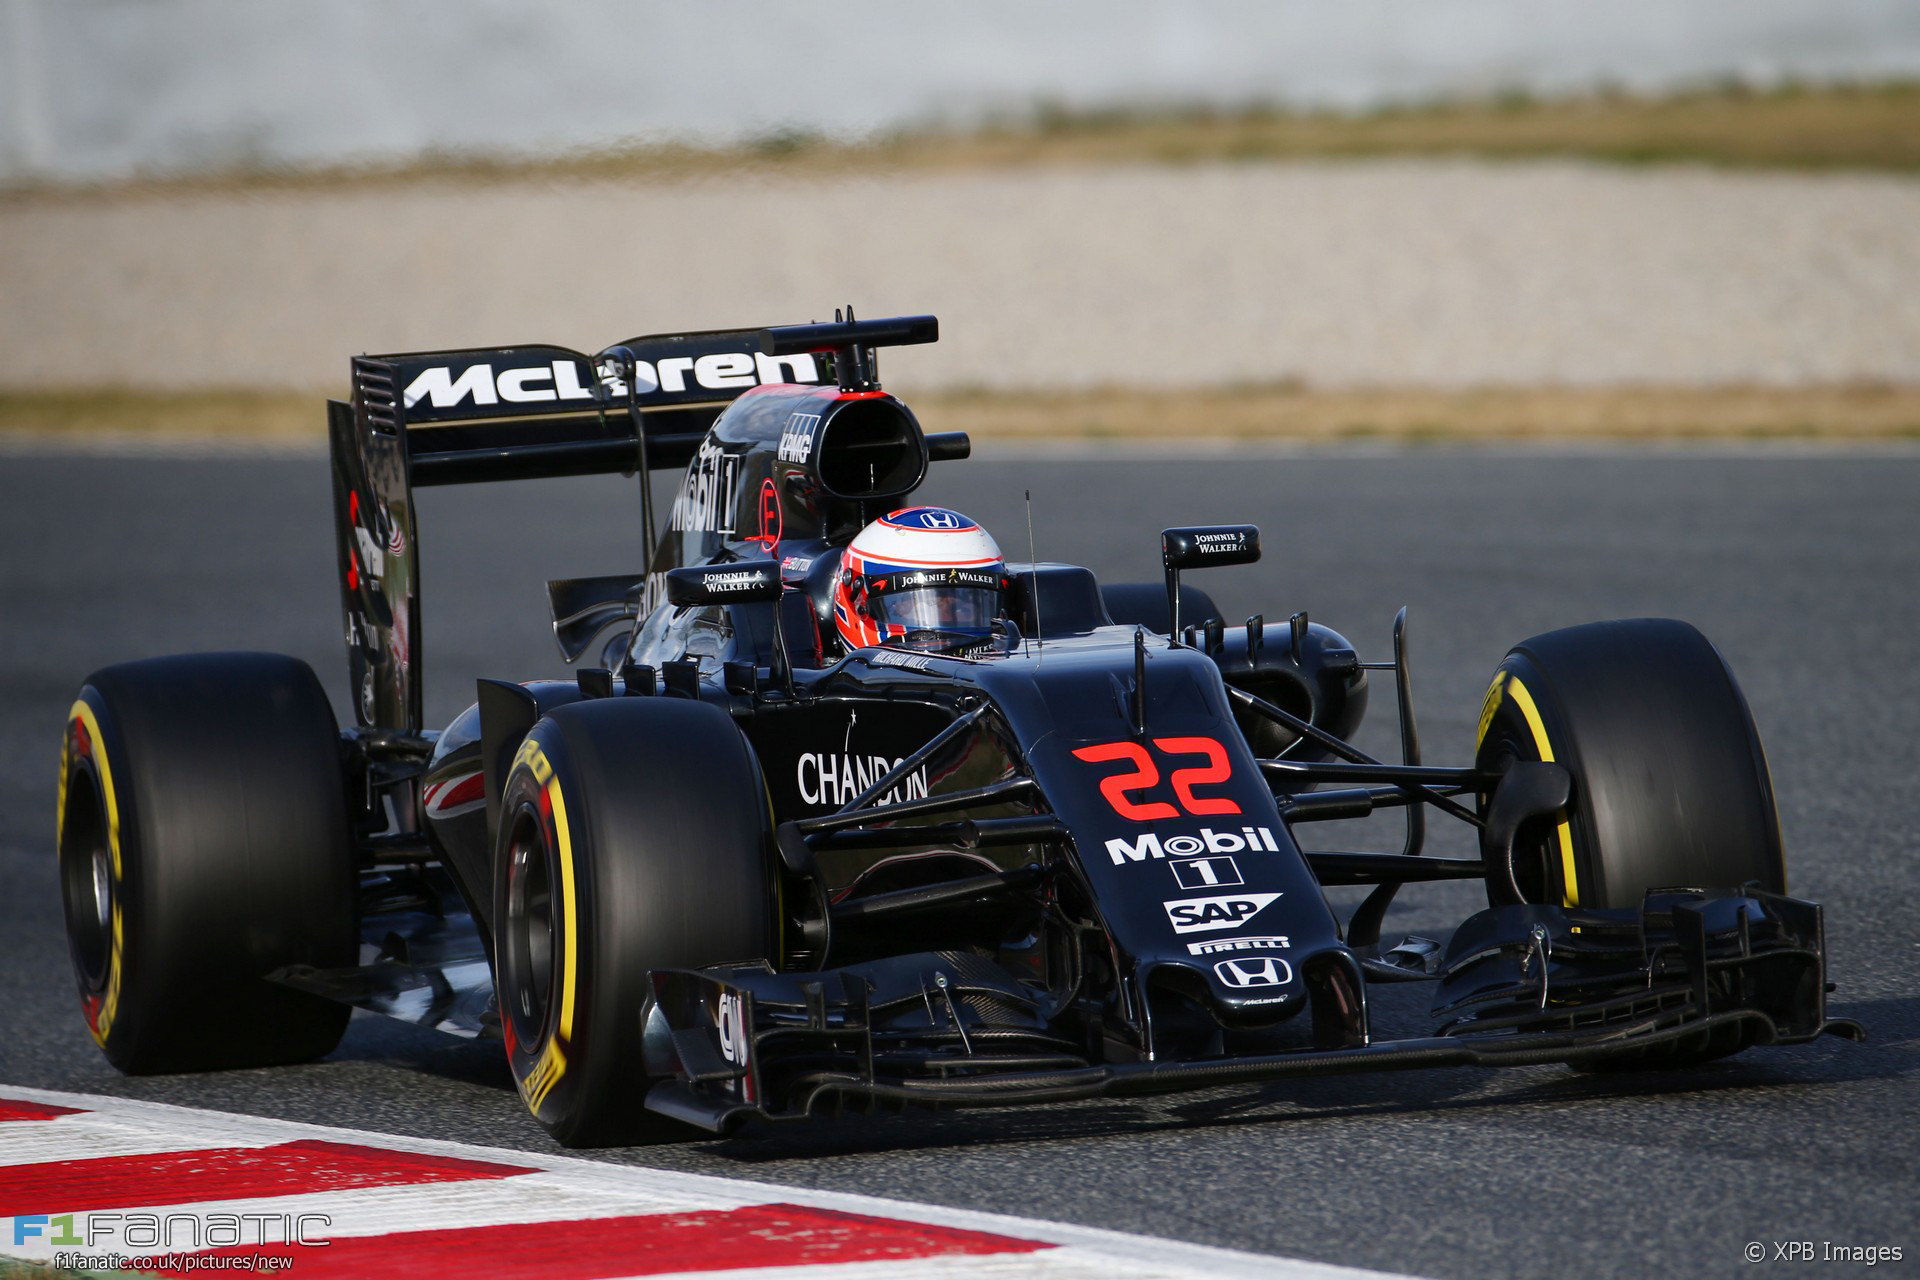F1 Car: (39, 294, 1871, 1174)
